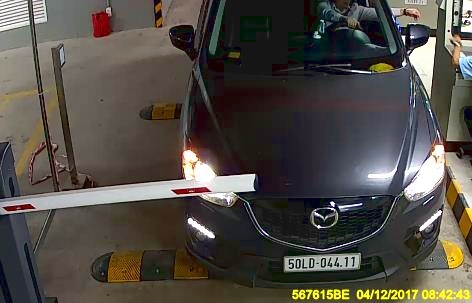plate: (285, 250, 360, 271)
